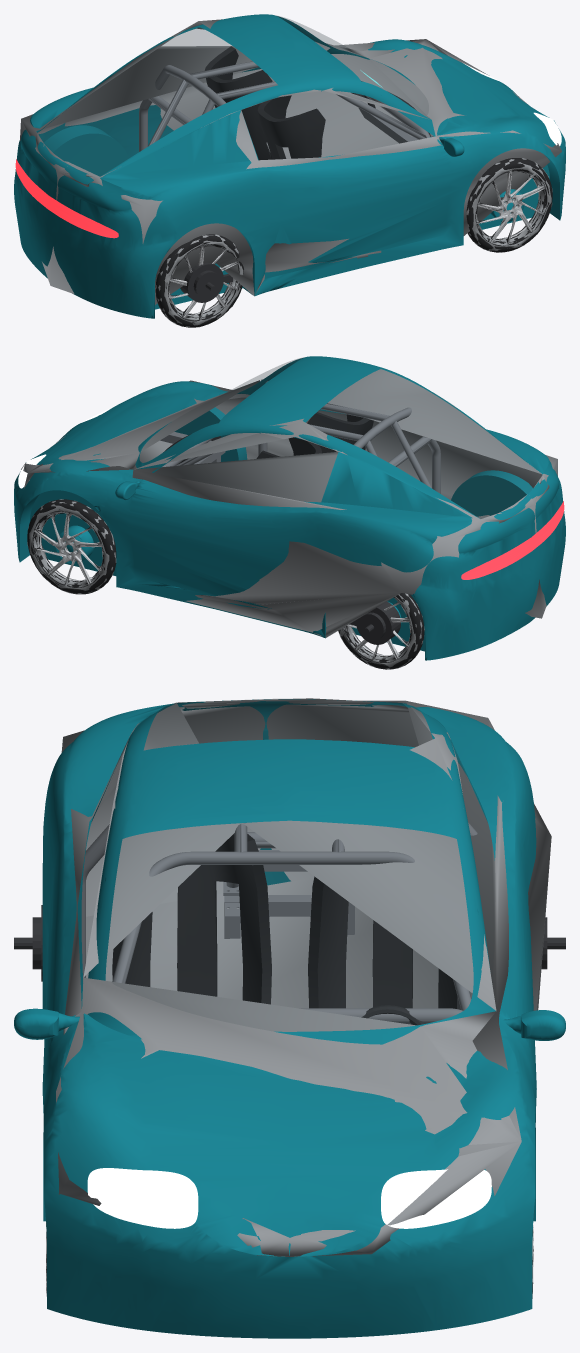
File: voltaris-arac.glb
3 renders of one model, top to bottom at view 1: azimuth 30°, elevation 25°; view 2: azimuth 150°, elevation 25°; view 3: azimuth 270°, elevation 25°, orthographic. The views are drawn at different scales.
Parts seen in each view (by area): view 1: Govde, Tel_Govde, Cam, RollCage, Tekerlek_04, Koltuk_Sag, Tekerlek_02, Tel_Tekerlek_04, Koltuk_Sol, Tel_Tekerlek_02, Stop, Motor_02 (+1 smaller); view 2: Govde, Tel_Govde, Cam, Tekerlek_03, RollCage, Tel_Tekerlek_03, Tekerlek_01, Tel_Tekerlek_01, Stop, Motor_01, Koltuk_Sag, Koltuk_Sol; view 3: Govde, Tel_Govde, Cam, Koltuk_Sag, Koltuk_Sol, RollCage, Far_02, Far_01, Sasi, Ayna_02, Ayna_01, Motor_02.
Part boxes in pixels (bbox=[...]): Govde: bbox=[14, 14, 565, 318]; Tel_Govde: bbox=[20, 19, 561, 304]; Cam: bbox=[38, 16, 431, 176]; RollCage: bbox=[139, 61, 430, 151]; Tekerlek_04: bbox=[466, 158, 552, 252]; Koltuk_Sag: bbox=[257, 95, 325, 159]; Tekerlek_02: bbox=[155, 234, 243, 327]; Tel_Tekerlek_04: bbox=[466, 158, 552, 252]; Koltuk_Sol: bbox=[204, 46, 272, 160]; Tel_Tekerlek_02: bbox=[155, 234, 243, 327]; Stop: bbox=[15, 159, 118, 238]; Motor_02: bbox=[180, 262, 232, 302]; Govde: bbox=[14, 356, 565, 660]; Tel_Govde: bbox=[21, 369, 557, 637]; Cam: bbox=[140, 357, 541, 518]; Tekerlek_03: bbox=[27, 499, 116, 594]; RollCage: bbox=[162, 403, 440, 493]; Tel_Tekerlek_03: bbox=[27, 499, 116, 593]; Tekerlek_01: bbox=[338, 593, 424, 669]; Tel_Tekerlek_01: bbox=[339, 593, 424, 669]; Stop: bbox=[461, 501, 564, 579]; Motor_01: bbox=[350, 601, 400, 644]; Koltuk_Sag: bbox=[307, 412, 373, 453]; Koltuk_Sol: bbox=[256, 437, 321, 458]; Govde: bbox=[42, 699, 536, 1338]; Tel_Govde: bbox=[56, 698, 551, 1256]; Cam: bbox=[82, 699, 494, 1031]; Koltuk_Sag: bbox=[112, 833, 271, 1004]; Koltuk_Sol: bbox=[308, 876, 460, 1009]; RollCage: bbox=[81, 822, 477, 1024]; Far_02: bbox=[87, 1168, 198, 1228]; Far_01: bbox=[381, 1169, 491, 1228]; Sasi: bbox=[224, 850, 354, 938]; Ayna_02: bbox=[14, 1008, 79, 1039]; Ayna_01: bbox=[503, 1010, 565, 1040]; Motor_02: bbox=[14, 905, 42, 981].
Size of the model in its own units: 3.22 by 1.28 by 1.69.
